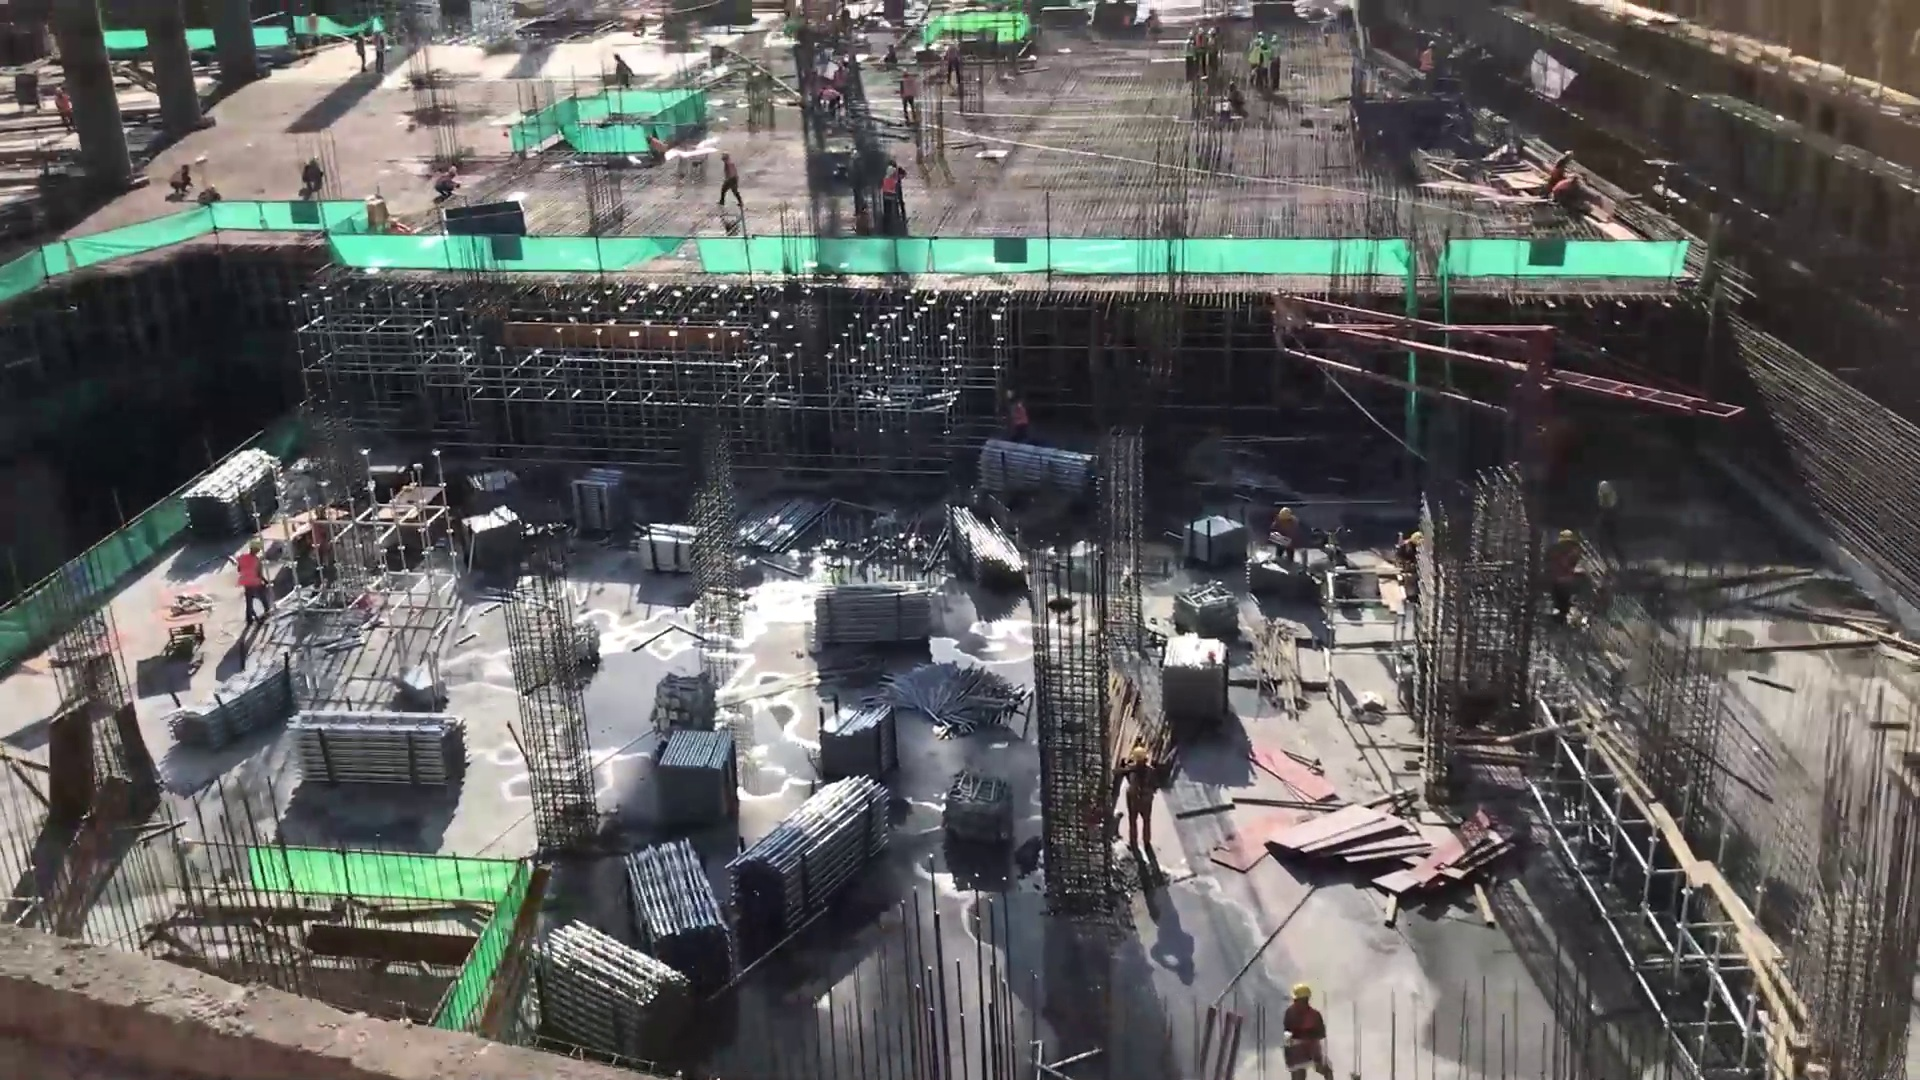helmet: (1291, 977, 1315, 1004), (1127, 743, 1152, 764), (1275, 503, 1296, 525), (1556, 527, 1578, 545), (247, 536, 263, 556), (1594, 477, 1615, 493), (884, 163, 899, 181), (53, 86, 69, 98), (1424, 38, 1437, 48), (448, 164, 457, 176)
person: (1275, 969, 1340, 1080), (1113, 740, 1165, 871), (235, 529, 272, 623), (307, 502, 341, 583), (1389, 523, 1420, 606), (880, 160, 910, 232), (1272, 500, 1302, 575), (718, 148, 746, 217), (426, 163, 472, 206), (1551, 169, 1591, 216), (1417, 35, 1441, 101), (166, 158, 196, 209), (299, 151, 326, 204), (52, 85, 76, 140), (899, 66, 920, 125), (1548, 147, 1578, 187), (609, 48, 635, 92), (372, 27, 391, 80), (1208, 26, 1225, 83), (1227, 79, 1250, 120), (944, 37, 962, 86), (1181, 31, 1197, 89), (1271, 32, 1284, 98), (1248, 38, 1265, 83), (355, 25, 366, 83), (1260, 39, 1271, 99), (1196, 22, 1207, 74)
vest: (238, 554, 264, 591), (883, 173, 905, 202), (1420, 47, 1438, 76), (901, 77, 918, 104)
